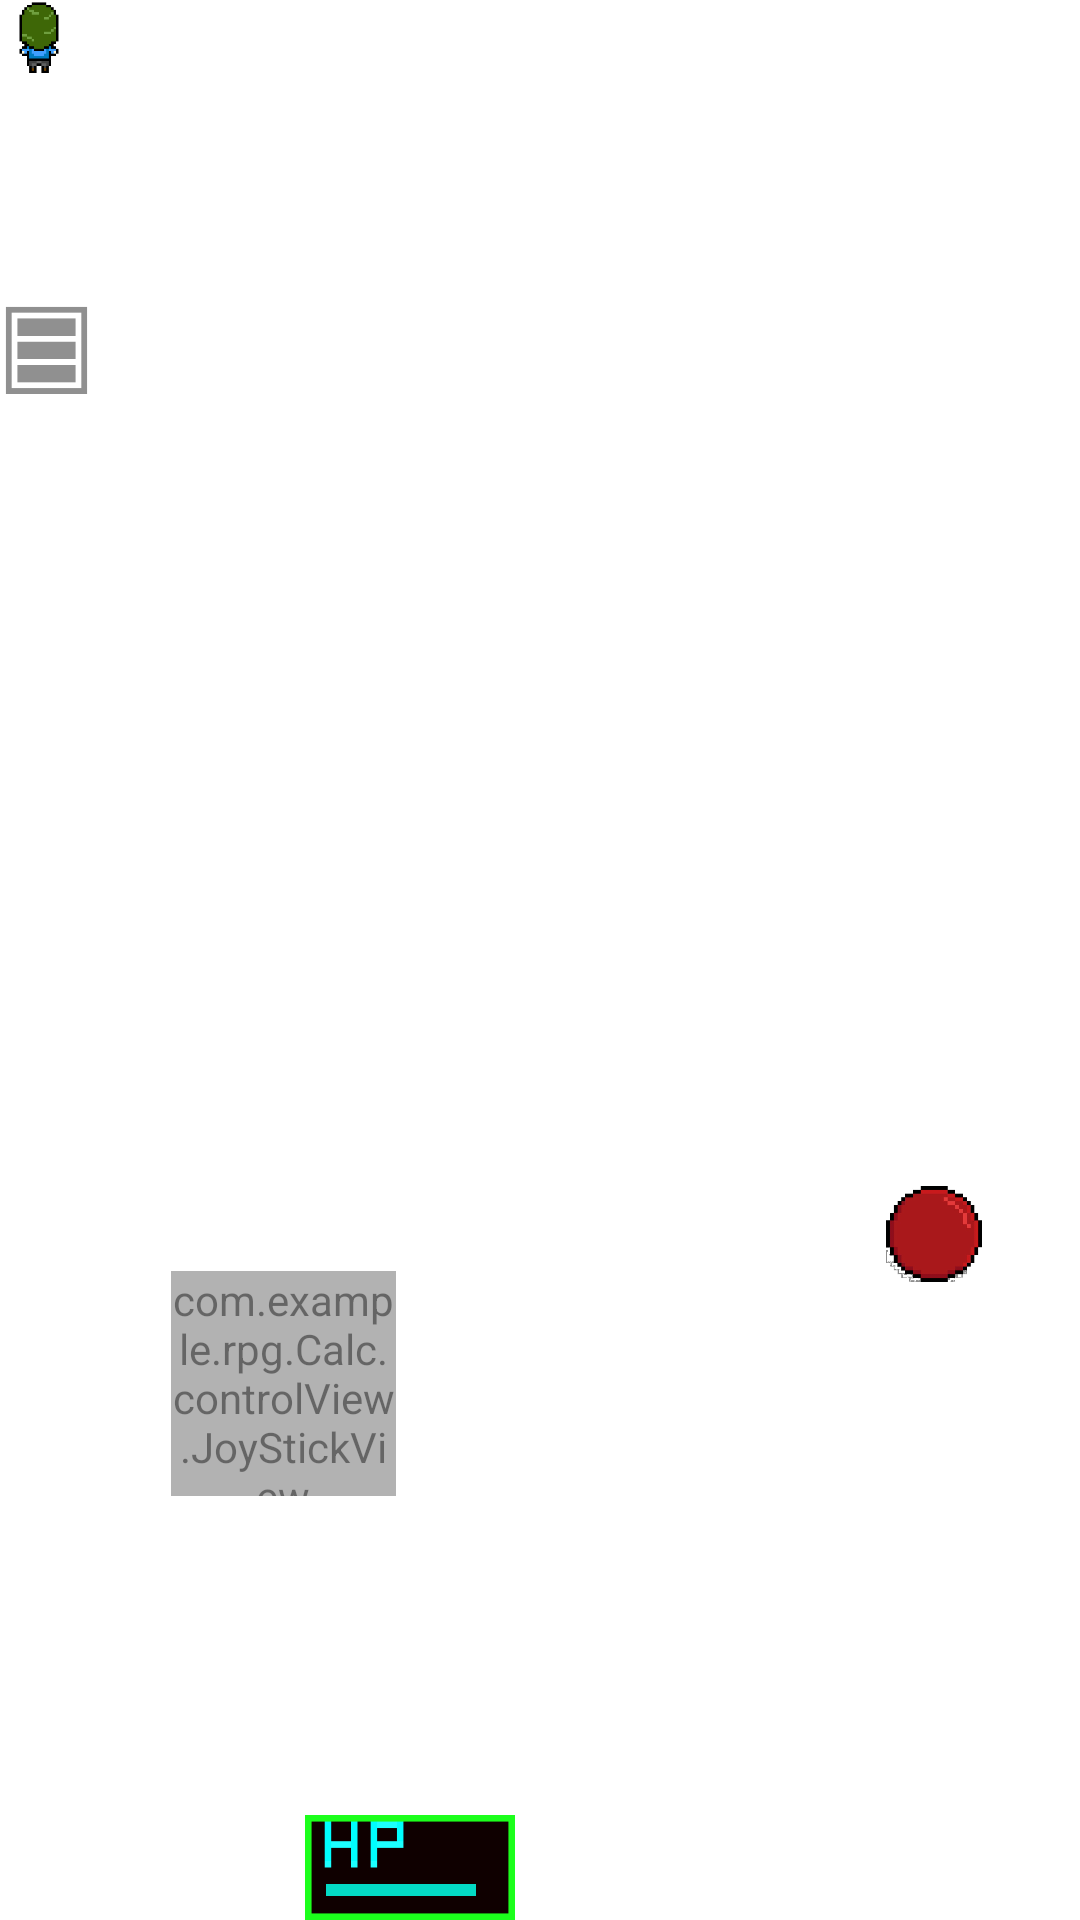

Icon bounding boxes for this 1080x1920 phone screenshot, format (x1, y1, x2, y2):
ber: (305, 1815, 515, 1920)
inventry: (6, 307, 87, 394)
player over: (19, 2, 59, 73)
